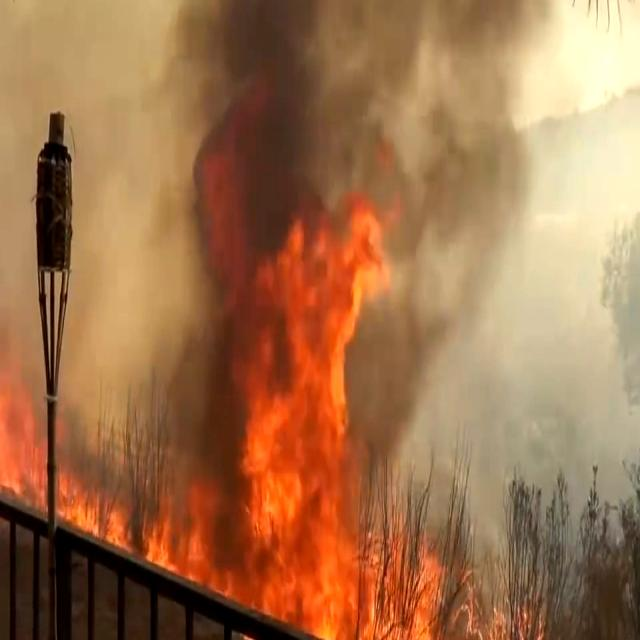fire: (204, 167, 378, 636), (0, 346, 38, 498)
smoke: (245, 0, 527, 126)
